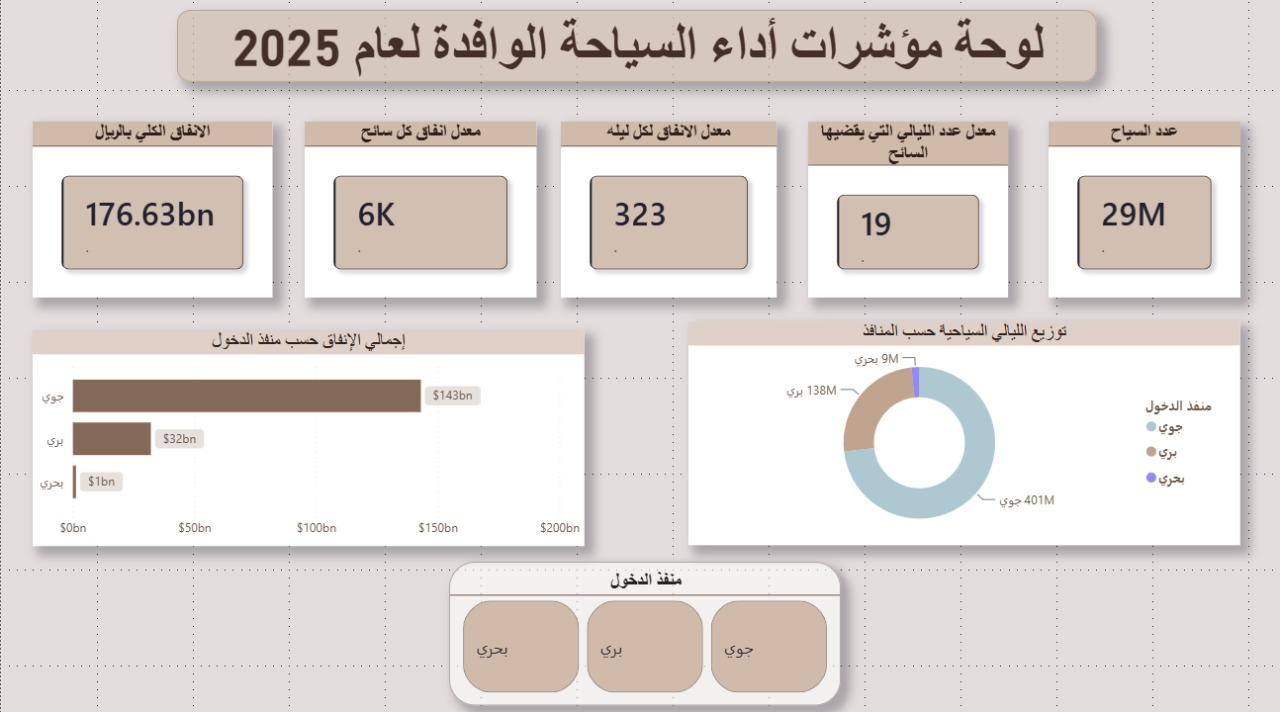

The dashboard page shown, as its layout file describes it:
{"tool":"powerbi","page":{"name":"Page 1","canvas":[1280,720],"ordinal":0},"visuals":[{"type":"cardVisual","title":"معدل الانفاق لكل ليله","fields":{"Data":["2025.Cost_Per_Night"]},"box":[560,128,216,176],"z":0},{"type":"cardVisual","title":"معدل عدد الليالي التي يقضيها السائح","fields":{"Data":["2025.Avg Length Of Stay"]},"box":[808,128,200,176],"z":1000},{"type":"cardVisual","title":"معدل انفاق كل سائح","fields":{"Data":["2025.Avg Spend Per Tourist"]},"box":[304,128,232,176],"z":2000},{"type":"advancedSlicerVisual","fields":{"Values":["2025.منفذ الدخول"]},"box":[448,568,392,144],"z":3000},{"type":"cardVisual","title":"عدد السياح","fields":{"Data":["Sum(2025.عدد سياح المبيت)"]},"box":[1048,128,192,176],"z":4000},{"type":"cardVisual","title":"الانفاق الكلي بالريال","fields":{"Data":["Sum(2025.الإنفاق السياحي بالريال)"]},"box":[32,128,240,176],"z":5000},{"type":"clusteredBarChart","title":"إجمالي الإنفاق حسب منفذ الدخول","fields":{"Category":["2025.منفذ الدخول"],"Y":["Sum(2025.الإنفاق السياحي بالريال)"]},"box":[32,336,552,216],"z":6000},{"type":"donutChart","title":"توزيع الليالي السياحية حسب المنافذ","fields":{"Category":["2025.منفذ الدخول"],"Y":["Sum(2025.عدد الليالي)"]},"box":[688,328,552,224],"z":7000},{"type":"textbox","title":"لوحة مؤشرات أداء السياحة الوافدة لعام 2025","box":[176,16,920,72],"z":7001}]}

Visuals, with their boxes in screenshot pixels (x1, y1, x2, y2), scaled from the page's 1280x720 canvas onto the 1280x712 screenshot:
"معدل الانفاق لكل ليله" cardVisual: left=560, top=127, right=776, bottom=301
"معدل عدد الليالي التي يقضيها السائح" cardVisual: left=808, top=127, right=1008, bottom=301
"معدل انفاق كل سائح" cardVisual: left=304, top=127, right=536, bottom=301
advancedSlicerVisual - 2025.منفذ الدخول: left=448, top=562, right=840, bottom=704
"عدد السياح" cardVisual: left=1048, top=127, right=1240, bottom=301
"الانفاق الكلي بالريال" cardVisual: left=32, top=127, right=272, bottom=301
"إجمالي الإنفاق حسب منفذ الدخول" clusteredBarChart: left=32, top=332, right=584, bottom=546
"توزيع الليالي السياحية حسب المنافذ" donutChart: left=688, top=324, right=1240, bottom=546
"لوحة مؤشرات أداء السياحة الوافدة لعام 2025" textbox: left=176, top=16, right=1096, bottom=87
